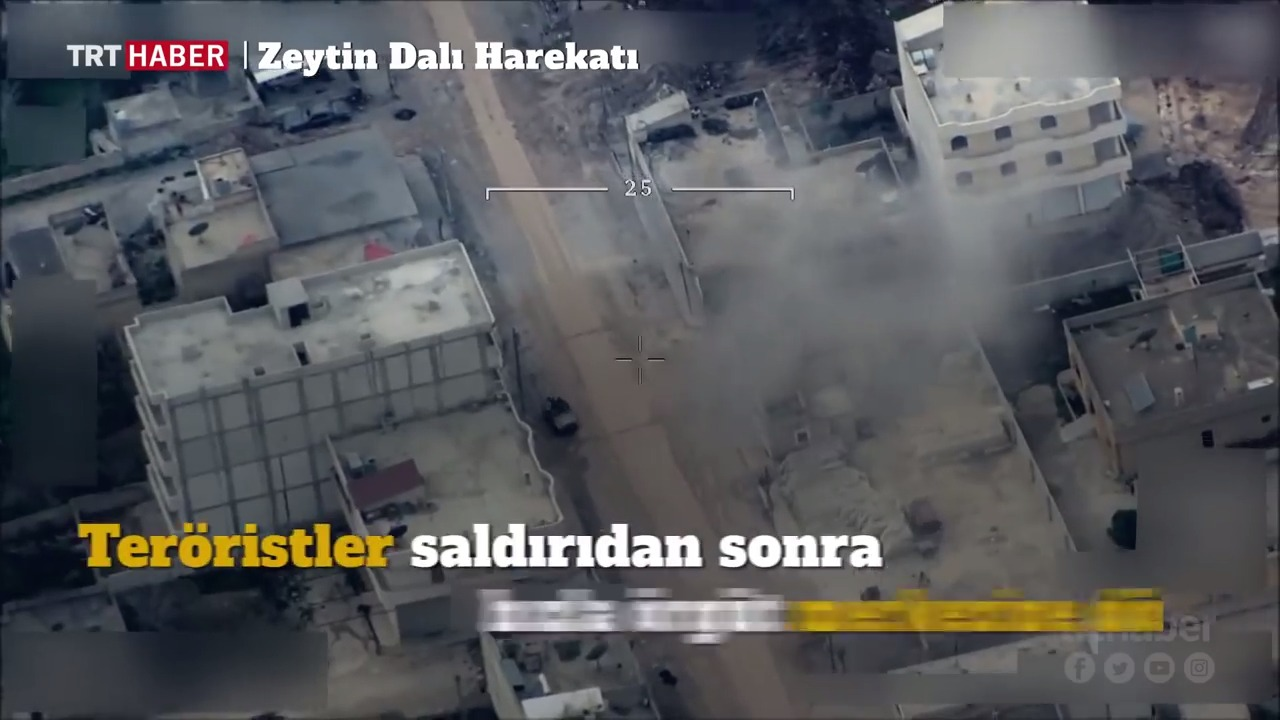bina: (115, 235, 513, 532)
